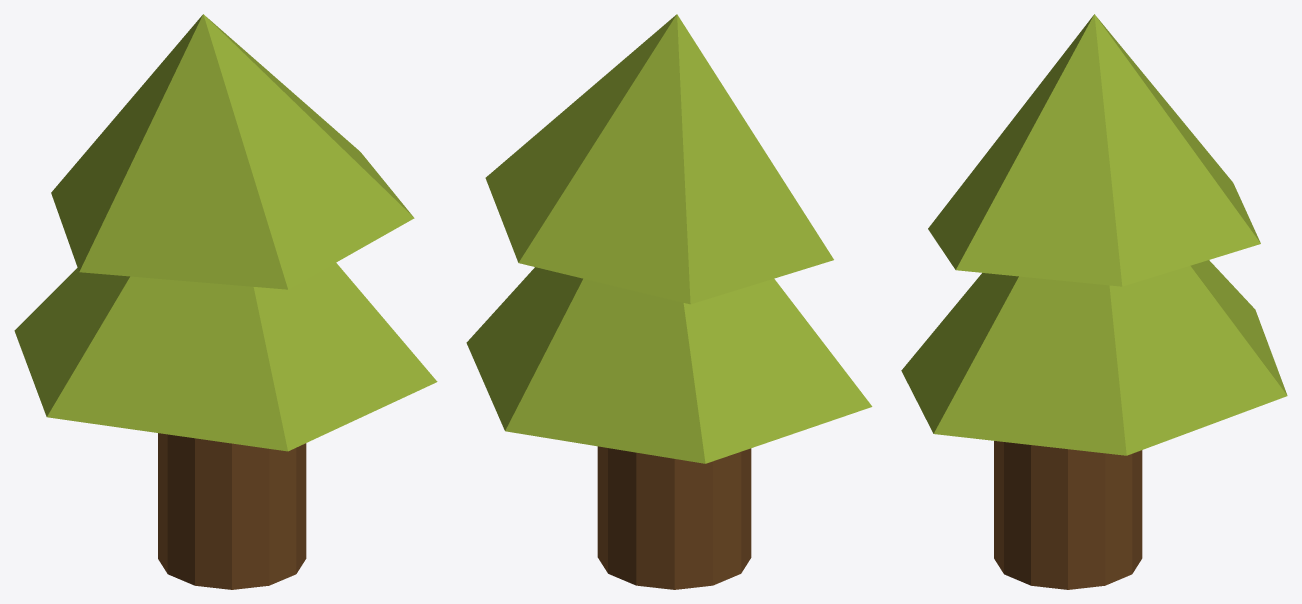
The model's file is Conifer1.fbx.
3 renders of one model, left to right at view 1: azimuth 30°, elevation 25°; view 2: azimuth 150°, elevation 25°; view 3: azimuth 270°, elevation 25°, orthographic. The views are drawn at different scales.
Parts seen in each view (by area): view 1: Pine_Sapling; view 2: Pine_Sapling; view 3: Pine_Sapling.
Part boxes in pixels (<box>): Pine_Sapling: <box>14,14,437,589</box>; Pine_Sapling: <box>466,14,872,589</box>; Pine_Sapling: <box>901,14,1287,589</box>.
Size of the model in its own units: 258 by 369 by 241.
